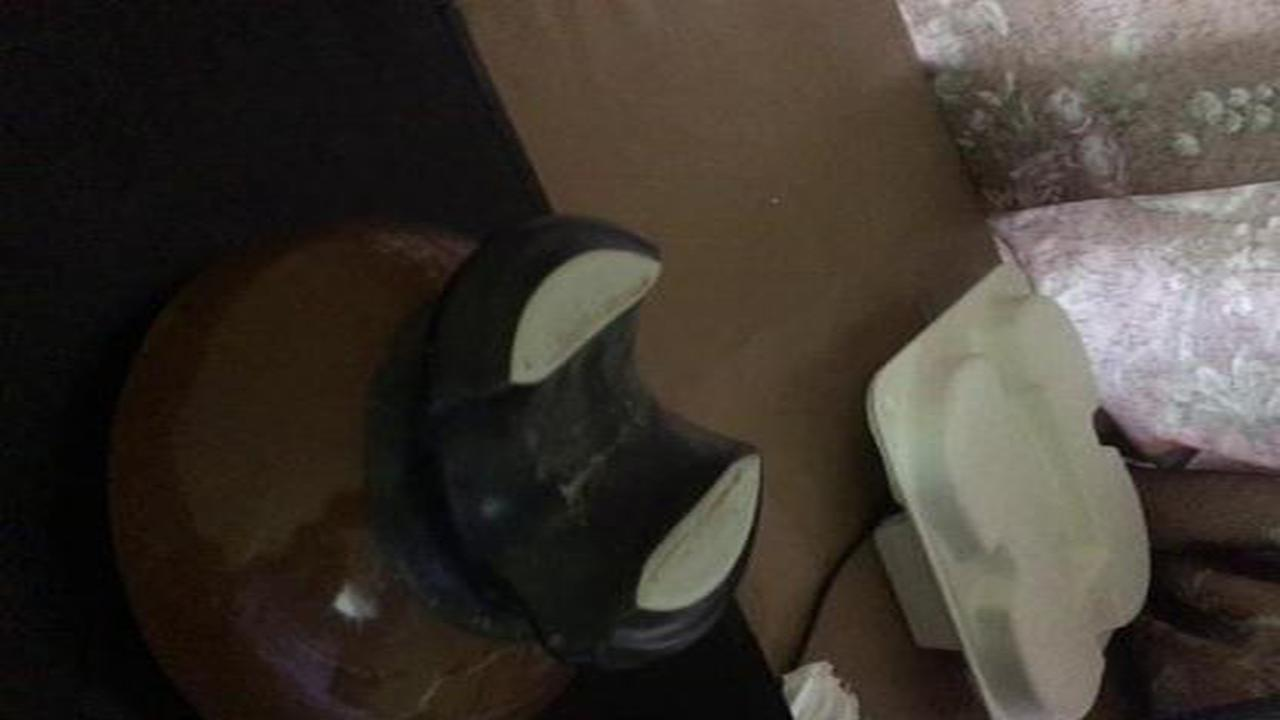insulator_pin: (73, 201, 785, 712)
